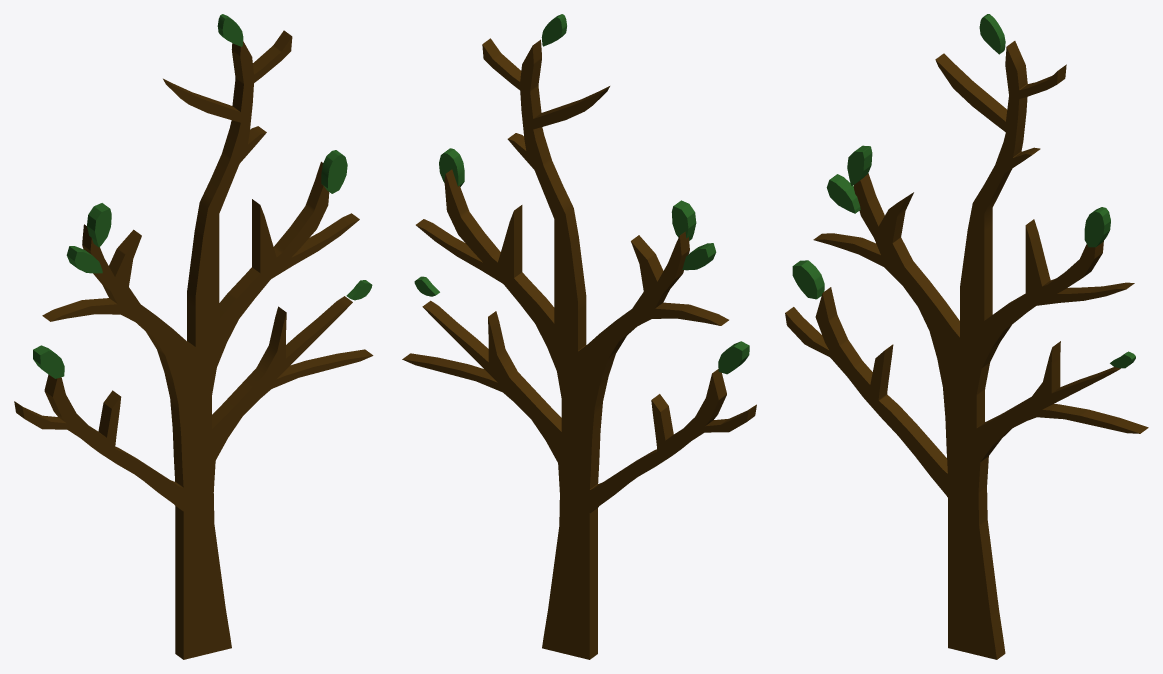
The model's file is Tree_02.fbx.
3 renders of one model, left to right at view 1: azimuth 30°, elevation 25°; view 2: azimuth 150°, elevation 25°; view 3: azimuth 330°, elevation 25°, orthographic. The views are drawn at different scales.
Parts seen in each view (by area): view 1: Trees0_5:tree1; view 2: Trees0_5:tree1; view 3: Trees0_5:tree1.
Boxes of the visible parts, left/top/right/bottom form: Trees0_5:tree1: left=14, top=14, right=373, bottom=659; Trees0_5:tree1: left=402, top=14, right=756, bottom=659; Trees0_5:tree1: left=785, top=14, right=1148, bottom=659.
Bounding box in the file's own units: 20.62 × 35.67 × 1.41.
